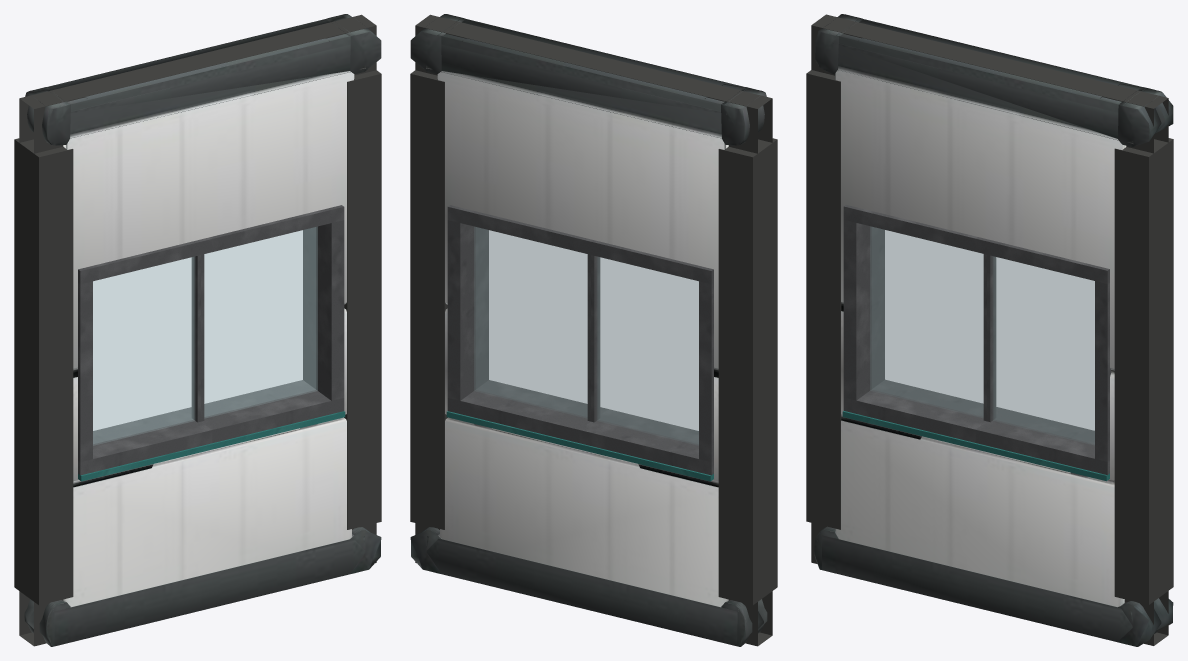
Rendered from wall-window.glb.
The picture shows the model from 3 angles, left to right: view 1: azimuth 30°, elevation 25°; view 2: azimuth 150°, elevation 25°; view 3: azimuth 330°, elevation 25°; orthographic projection.
Parts seen in each view (by area): view 1: object 1, WindowGlass_glass, WindowGlass_gunmetal, WindowGlass_teal; view 2: object 1, WindowGlass_glass, WindowGlass_gunmetal, WindowGlass_teal; view 3: object 1, WindowGlass_glass, WindowGlass_gunmetal, WindowGlass_teal.
Part boxes in pixels (x1=…): object 1: x1=14, y1=14, x2=381, y2=646; WindowGlass_glass: x1=93, y1=227, x2=317, y2=445; WindowGlass_gunmetal: x1=78, y1=205, x2=344, y2=475; WindowGlass_teal: x1=78, y1=411, x2=345, y2=481; object 1: x1=410, y1=14, x2=777, y2=646; WindowGlass_glass: x1=474, y1=227, x2=698, y2=445; WindowGlass_gunmetal: x1=447, y1=205, x2=713, y2=475; WindowGlass_teal: x1=446, y1=411, x2=713, y2=481; object 1: x1=806, y1=14, x2=1173, y2=646; WindowGlass_glass: x1=870, y1=226, x2=1094, y2=445; WindowGlass_gunmetal: x1=843, y1=205, x2=1111, y2=474; WindowGlass_teal: x1=842, y1=411, x2=1109, y2=481.
Bounding box in the file's own units: 2 × 3 × 0.31.
4 materials, 3 textured.
